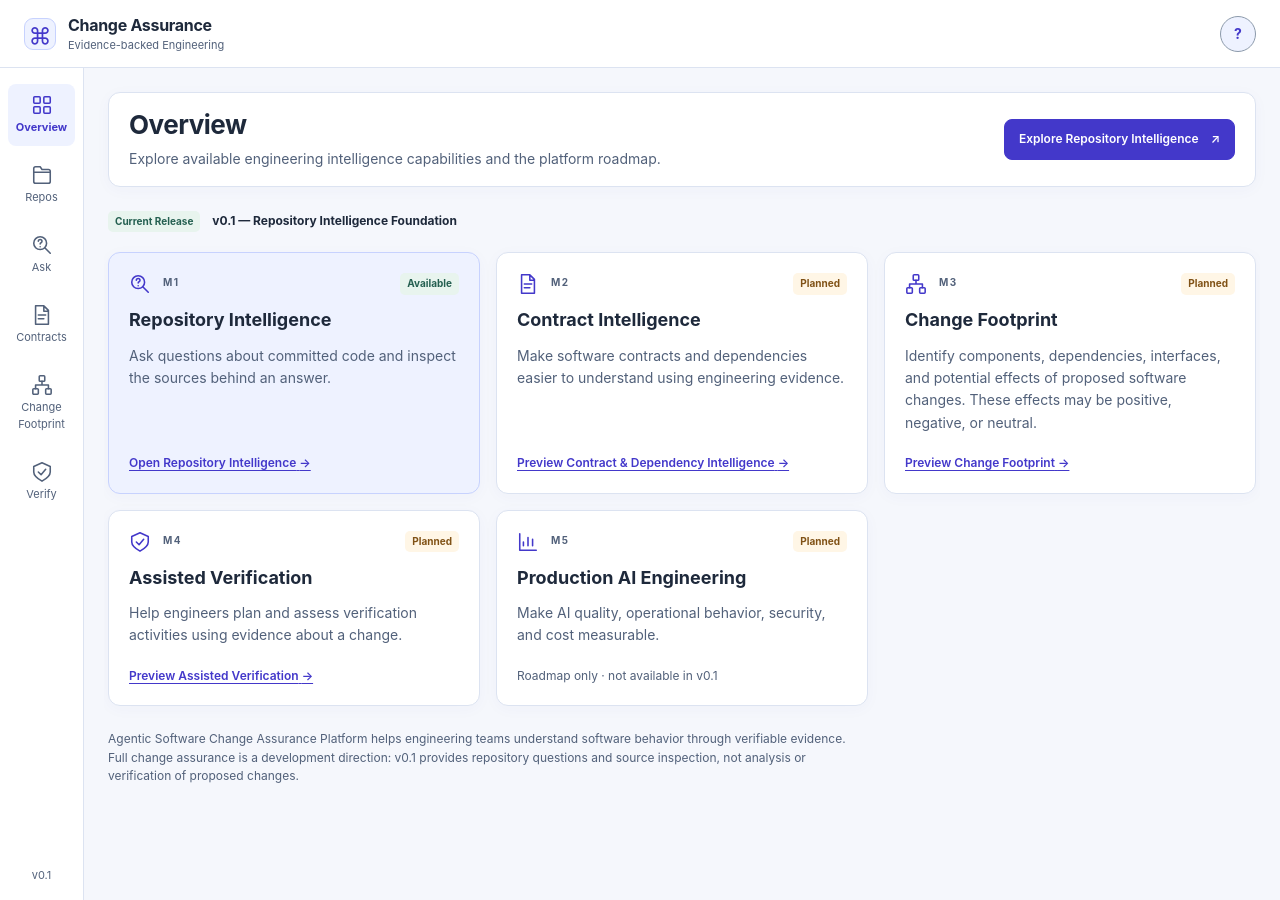
Test: searches and navigates Help, dismisses by keyboard, and restores focus
Click the button named "Open Help Center" at (1238, 34), box [1220,16,1256,52]
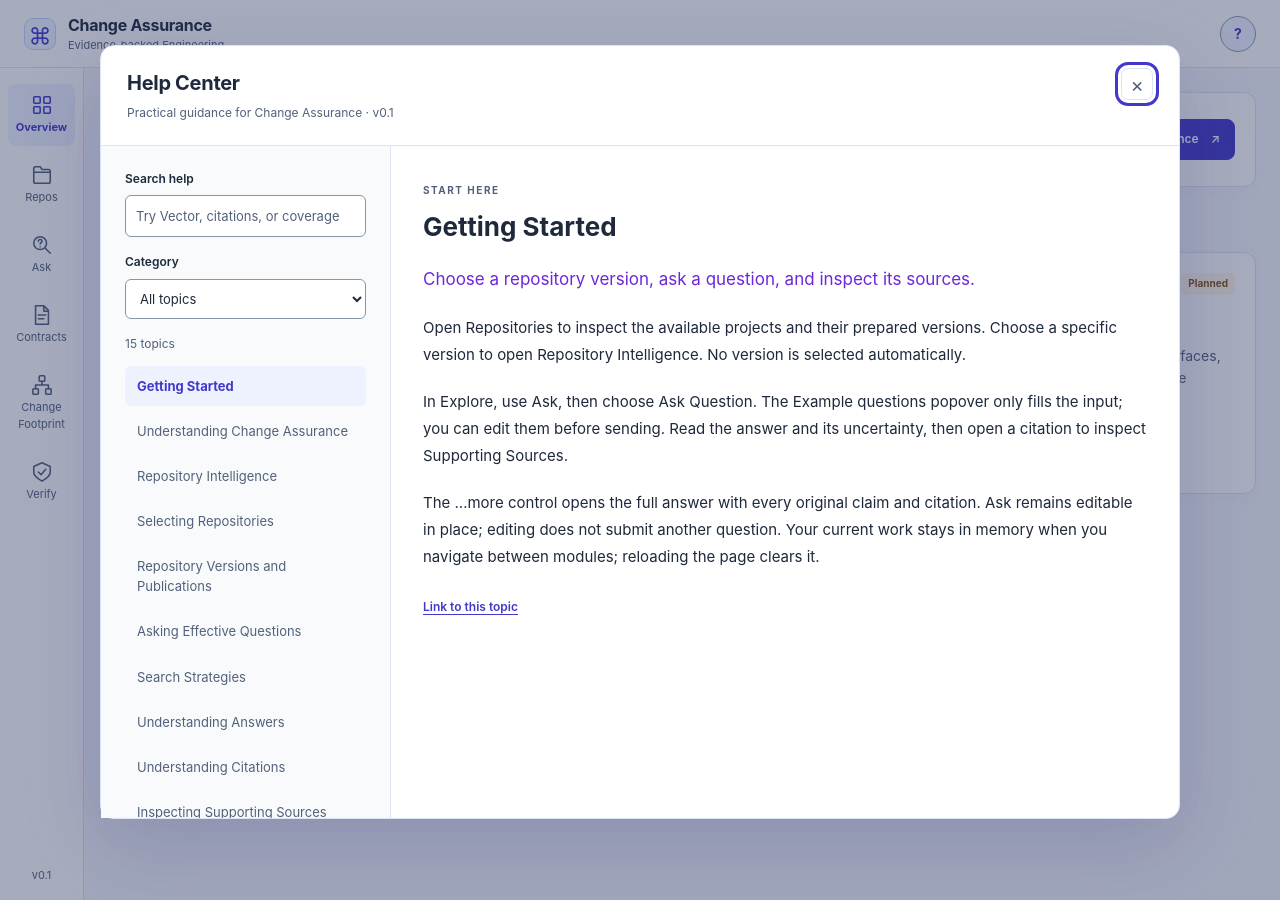
Type "Hybrid" into the search field labelled "Search help" at (246, 216), box [125,195,366,237]
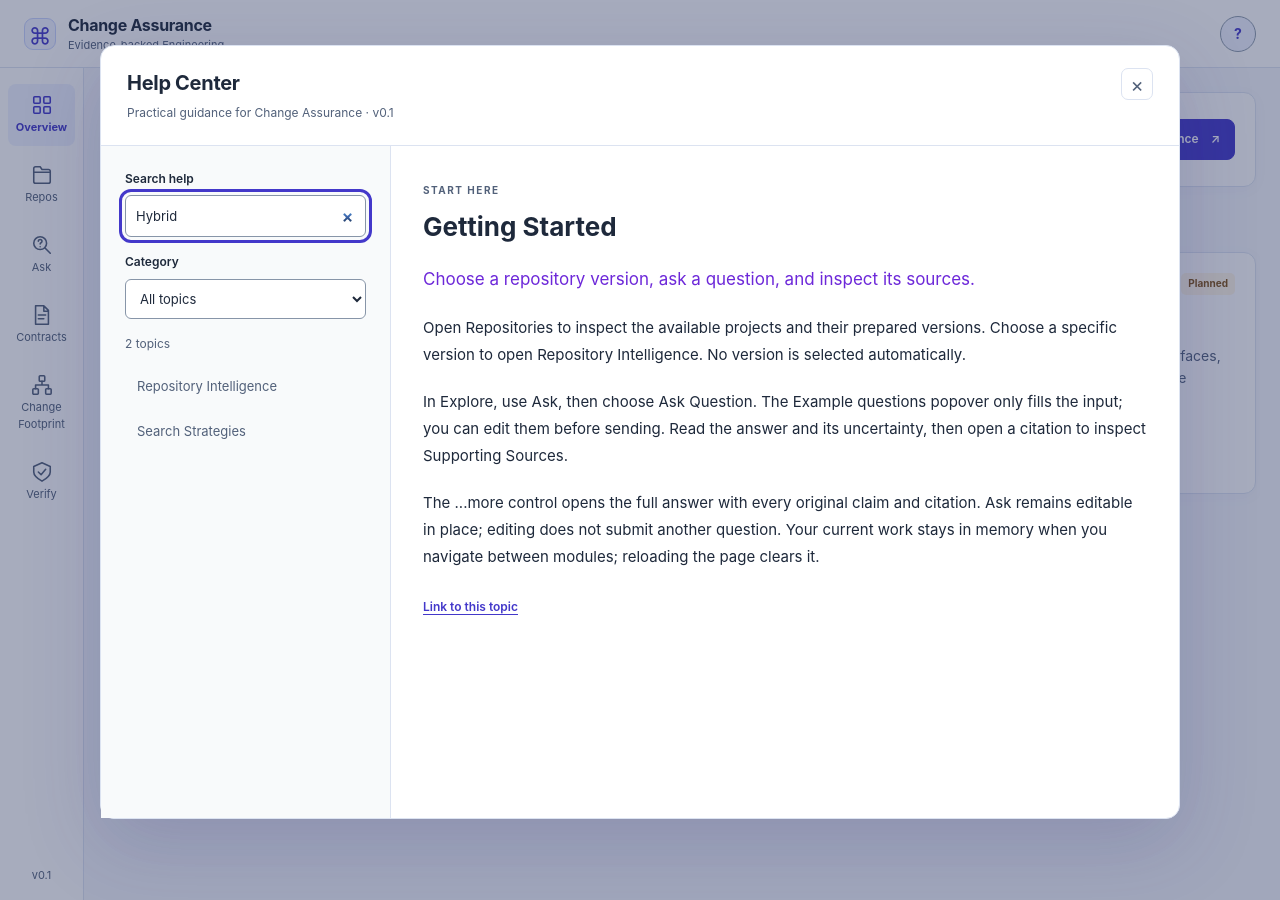
Click the link "Search Strategies" at (191, 431), box [137,423,246,439]
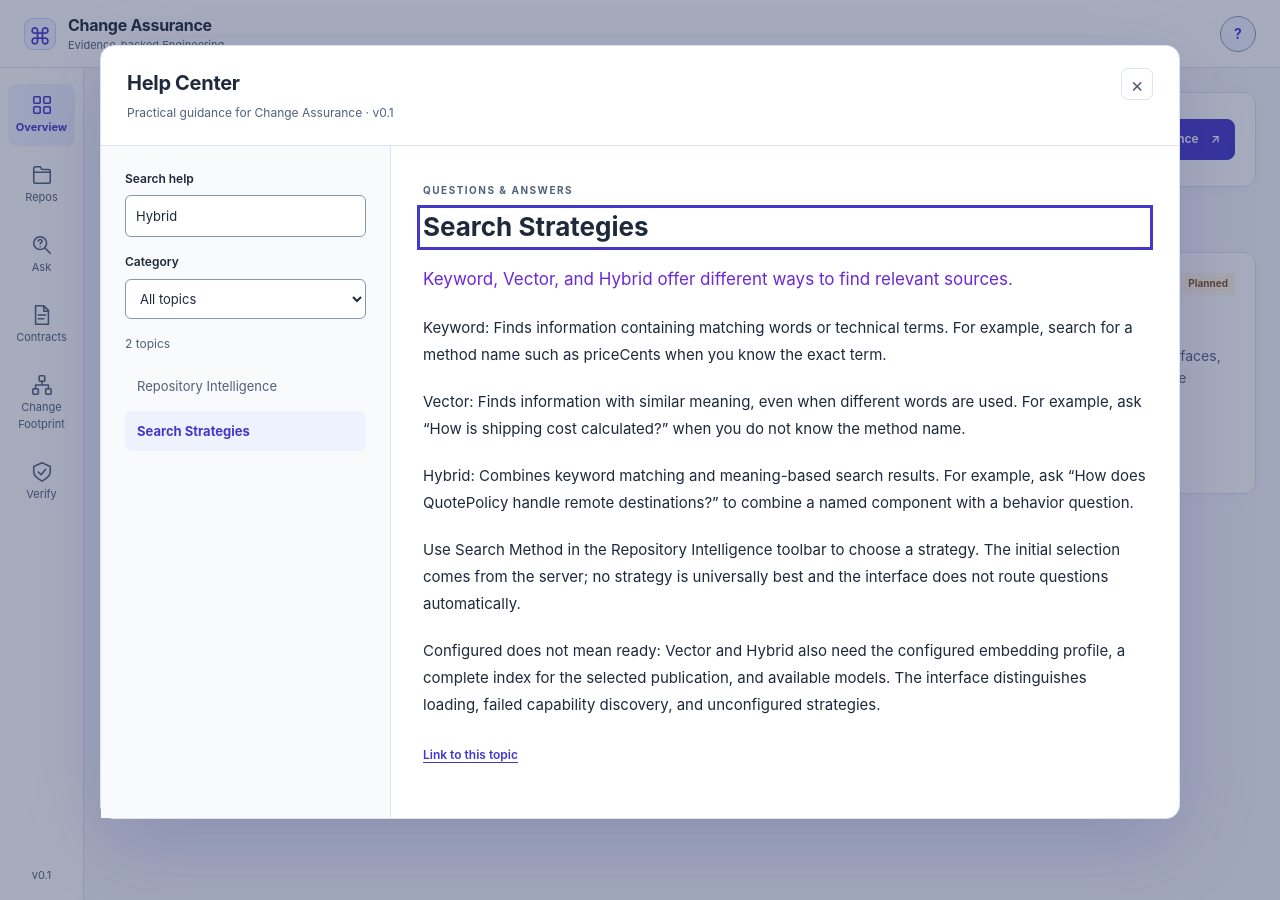
Check: the text "Hybrid: Combines keyword" is shown, box [423,466,1146,512]
Press Escape
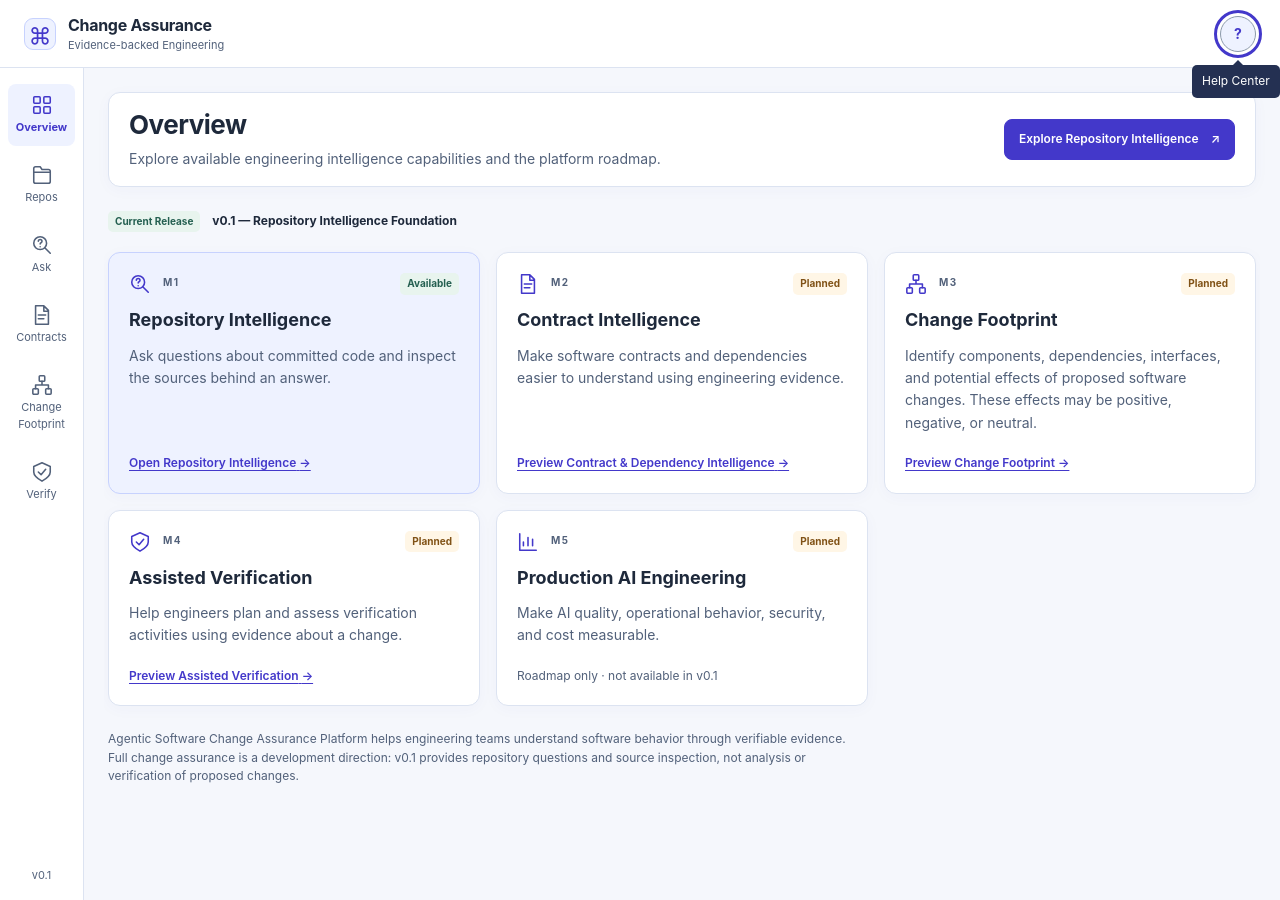
Check: the dialog is gone
